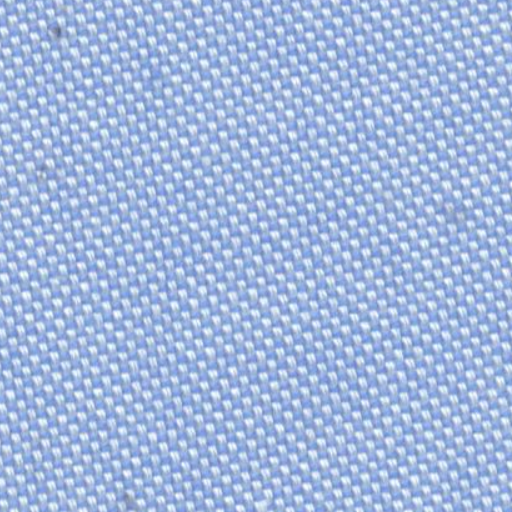WuZi: (105, 476, 153, 510), (40, 10, 76, 44)
